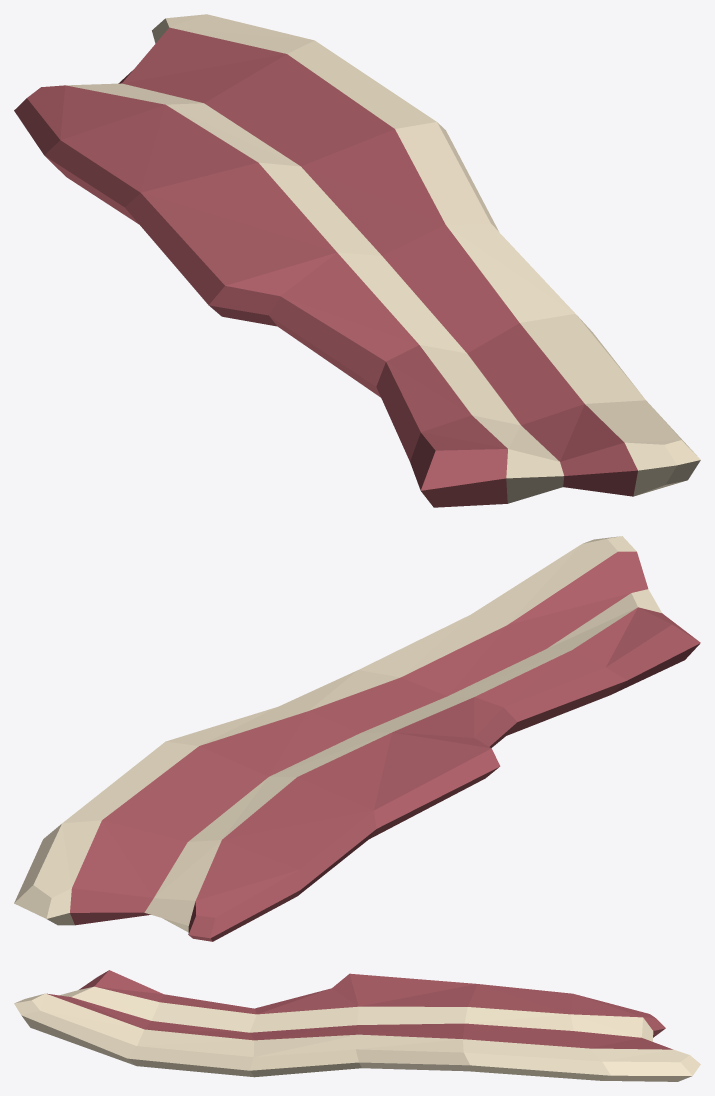
File: Bacon1.fbx
The picture shows the model from 3 angles, top to bottom: view 1: azimuth 30°, elevation 25°; view 2: azimuth 150°, elevation 25°; view 3: azimuth 270°, elevation 25°; orthographic projection. The views are drawn at different scales.
Parts seen in each view (by area): view 1: Bacon; view 2: Bacon; view 3: Bacon.
Part boxes in pixels (left/top/right/bottom): Bacon: left=14, top=14, right=700, bottom=507; Bacon: left=14, top=536, right=700, bottom=941; Bacon: left=14, top=970, right=700, bottom=1081.
Size of the model in its own units: 10.68 by 2.62 by 31.15.
